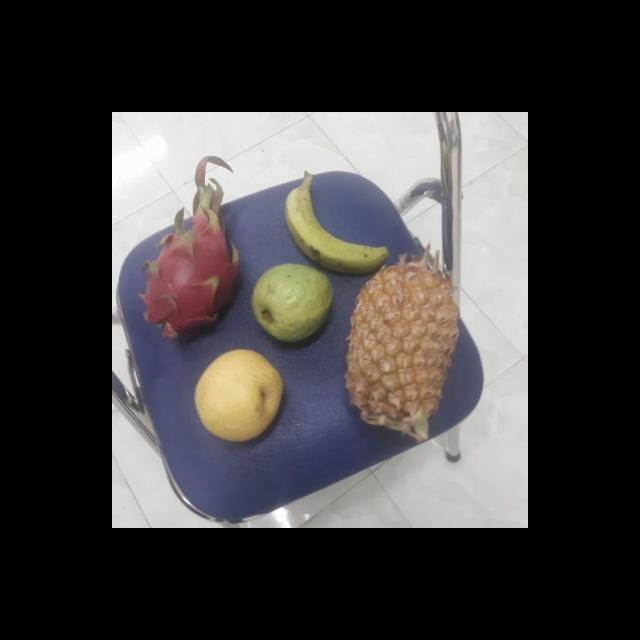banana: (284, 180, 390, 274)
guava: (252, 263, 335, 341)
pear: (194, 350, 288, 443)
pineapple: (346, 255, 466, 443)
pitaya: (144, 220, 244, 340)
